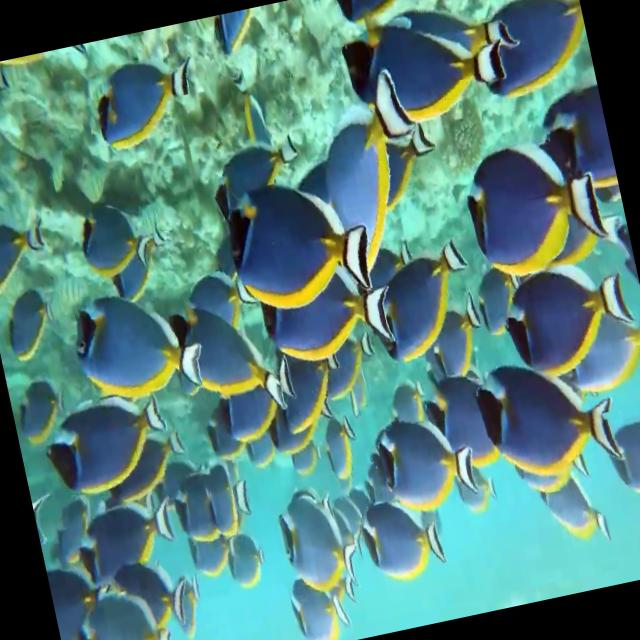fish: (337, 0, 527, 147), (451, 121, 610, 287), (217, 174, 380, 334), (60, 265, 212, 425), (471, 346, 631, 497), (355, 226, 483, 372), (496, 262, 636, 382), (39, 386, 178, 506), (358, 398, 484, 528), (312, 124, 414, 275), (82, 42, 210, 160), (467, 0, 592, 105), (272, 480, 374, 604), (351, 484, 454, 596), (78, 483, 182, 577), (96, 202, 180, 312), (102, 429, 202, 518), (68, 191, 160, 286), (541, 91, 619, 200), (117, 546, 203, 640), (532, 458, 610, 558), (418, 285, 496, 382), (61, 577, 179, 640), (372, 114, 441, 210), (7, 374, 73, 461), (1, 288, 66, 374), (0, 213, 62, 302), (594, 399, 640, 517), (280, 572, 353, 640), (198, 456, 254, 536), (168, 474, 219, 549), (222, 529, 279, 591), (327, 0, 417, 39), (184, 530, 245, 586)
